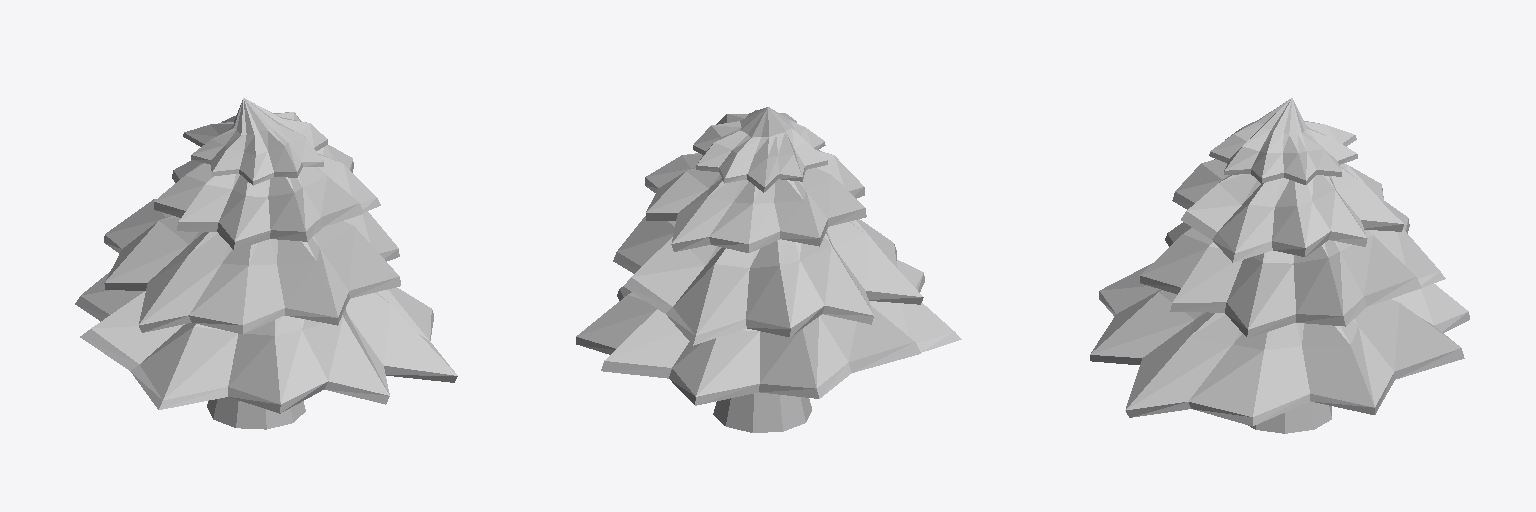
File: pinetree1.obj
3 views of the same model, side by side, from view 1: azimuth 30°, elevation 25°; view 2: azimuth 150°, elevation 25°; view 3: azimuth 270°, elevation 25° (orthographic).
Parts seen in each view (by area): view 1: pCone5; view 2: pCone5; view 3: pCone5.
Boxes of the visible parts, <box> form: pCone5: <box>75,98,457,429</box>; pCone5: <box>576,107,961,432</box>; pCone5: <box>1090,98,1469,433</box>.
Size of the model in its own units: 3.34 by 3.01 by 3.34.